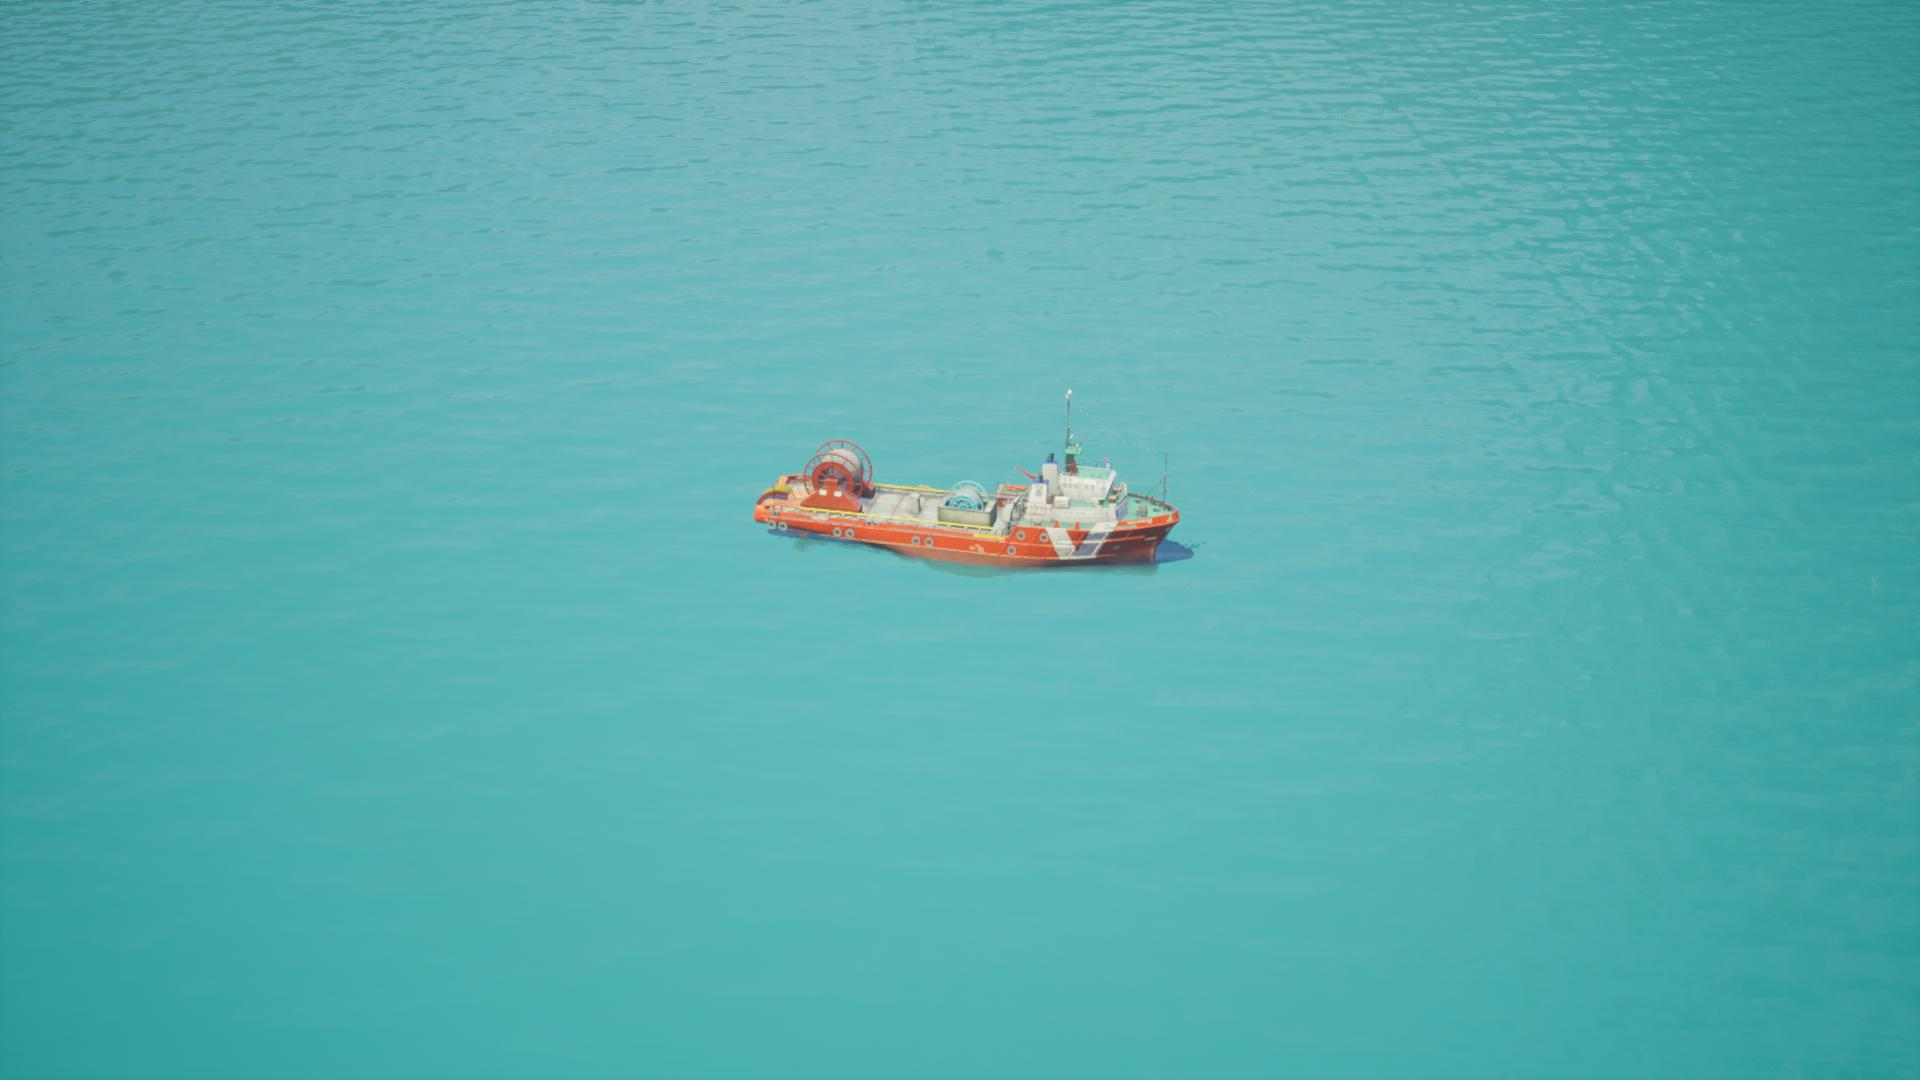Tug Boat: (712, 336, 1199, 683)
